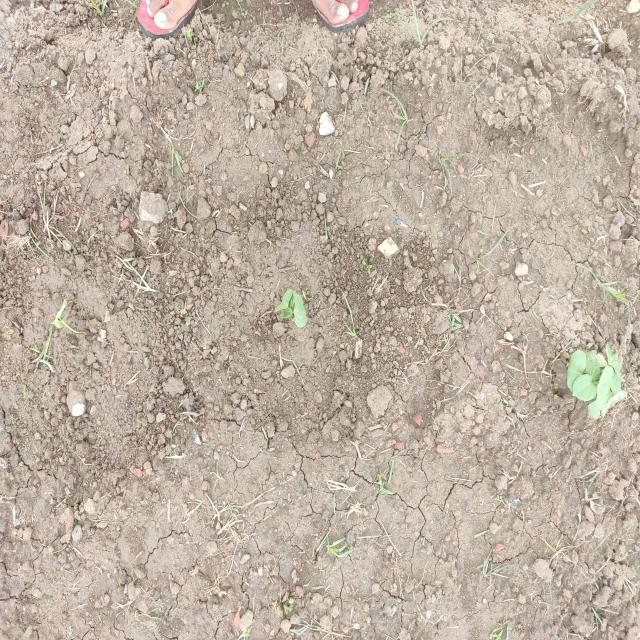seedling: (596, 366, 614, 410), (567, 350, 586, 391), (572, 374, 597, 401), (601, 391, 626, 417), (605, 344, 622, 375), (294, 294, 307, 328), (275, 289, 293, 312), (585, 350, 607, 367), (586, 359, 601, 382), (587, 400, 600, 419), (610, 372, 621, 393), (288, 291, 297, 307), (281, 308, 293, 318)
